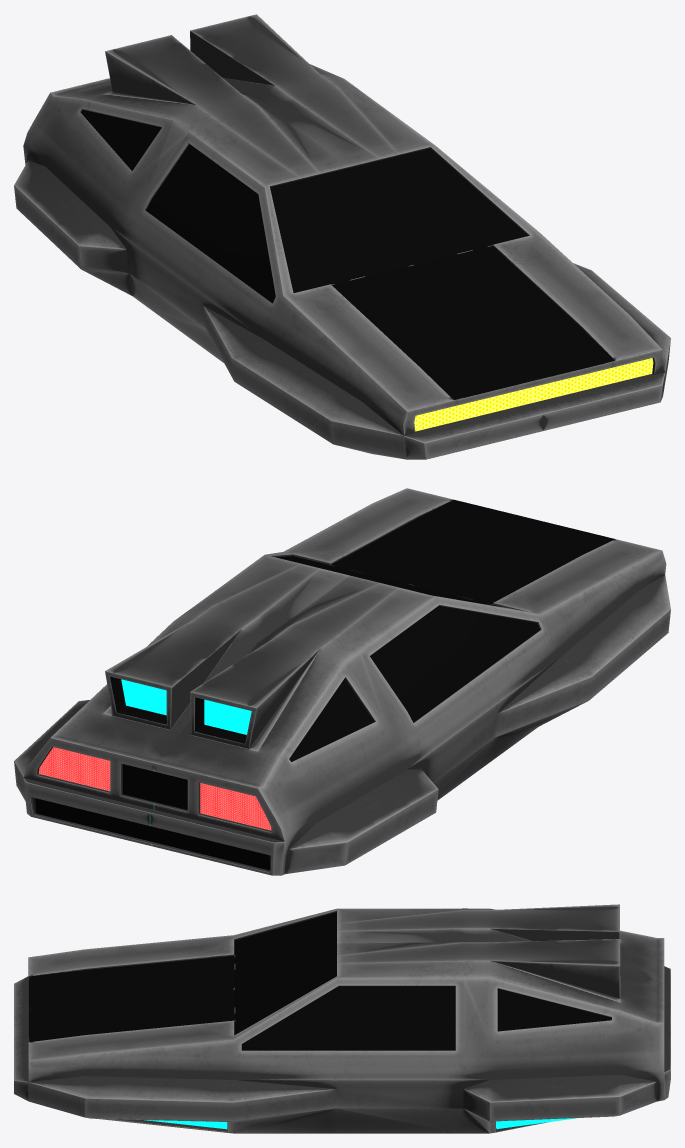
The model's file is FLOATING_CAR.fbx.
The picture shows the model from 3 angles, top to bottom: view 1: azimuth 30°, elevation 25°; view 2: azimuth 150°, elevation 25°; view 3: azimuth 270°, elevation 25°; orthographic projection. The views are drawn at different scales.
Visible parts, largest first — view 1: DMC Sci-Fi Hover Car; view 2: DMC Sci-Fi Hover Car; view 3: DMC Sci-Fi Hover Car.
Part boxes in pixels (x1,y1,x2,y2): DMC Sci-Fi Hover Car: (14, 14, 670, 459); DMC Sci-Fi Hover Car: (14, 488, 670, 875); DMC Sci-Fi Hover Car: (14, 904, 670, 1133).
Bounding box in the file's own units: 221 × 103 × 417.
Materials: 3 (1 with a texture image).
